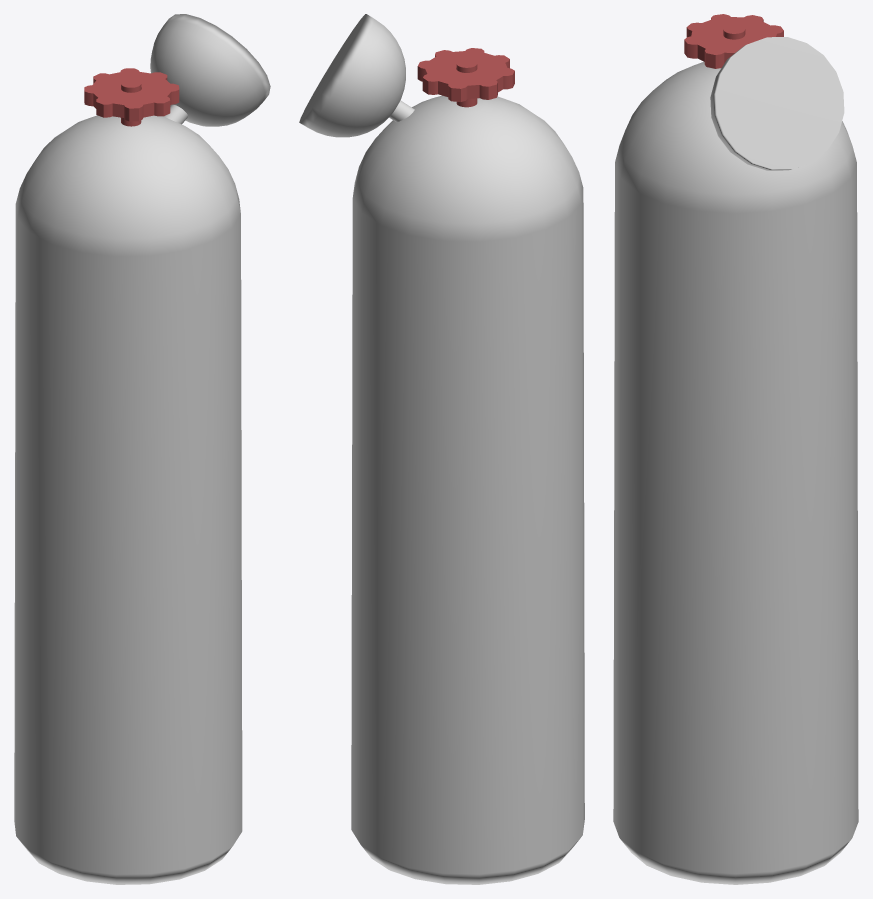
The model's file is boost_fuel.fbx.
The picture shows the model from 3 angles, left to right: view 1: azimuth 30°, elevation 25°; view 2: azimuth 150°, elevation 25°; view 3: azimuth 270°, elevation 25°; orthographic projection. The views are drawn at different scales.
Parts seen in each view (by area): view 1: tank2, dial2, valve2; view 2: tank2, dial2, valve2; view 3: tank2, dial2, valve2.
Part boxes in pixels (x1=…): tank2: x1=14, y1=115, x2=242, y2=884; dial2: x1=150, y1=14, x2=270, y2=126; valve2: x1=84, y1=68, x2=179, y2=121; tank2: x1=351, y1=95, x2=584, y2=884; dial2: x1=299, y1=14, x2=405, y2=137; valve2: x1=417, y1=48, x2=514, y2=101; tank2: x1=613, y1=62, x2=858, y2=884; dial2: x1=710, y1=37, x2=844, y2=170; valve2: x1=684, y1=14, x2=783, y2=68.
Bounding box in the file's own units: 937 × 2931 × 769.
